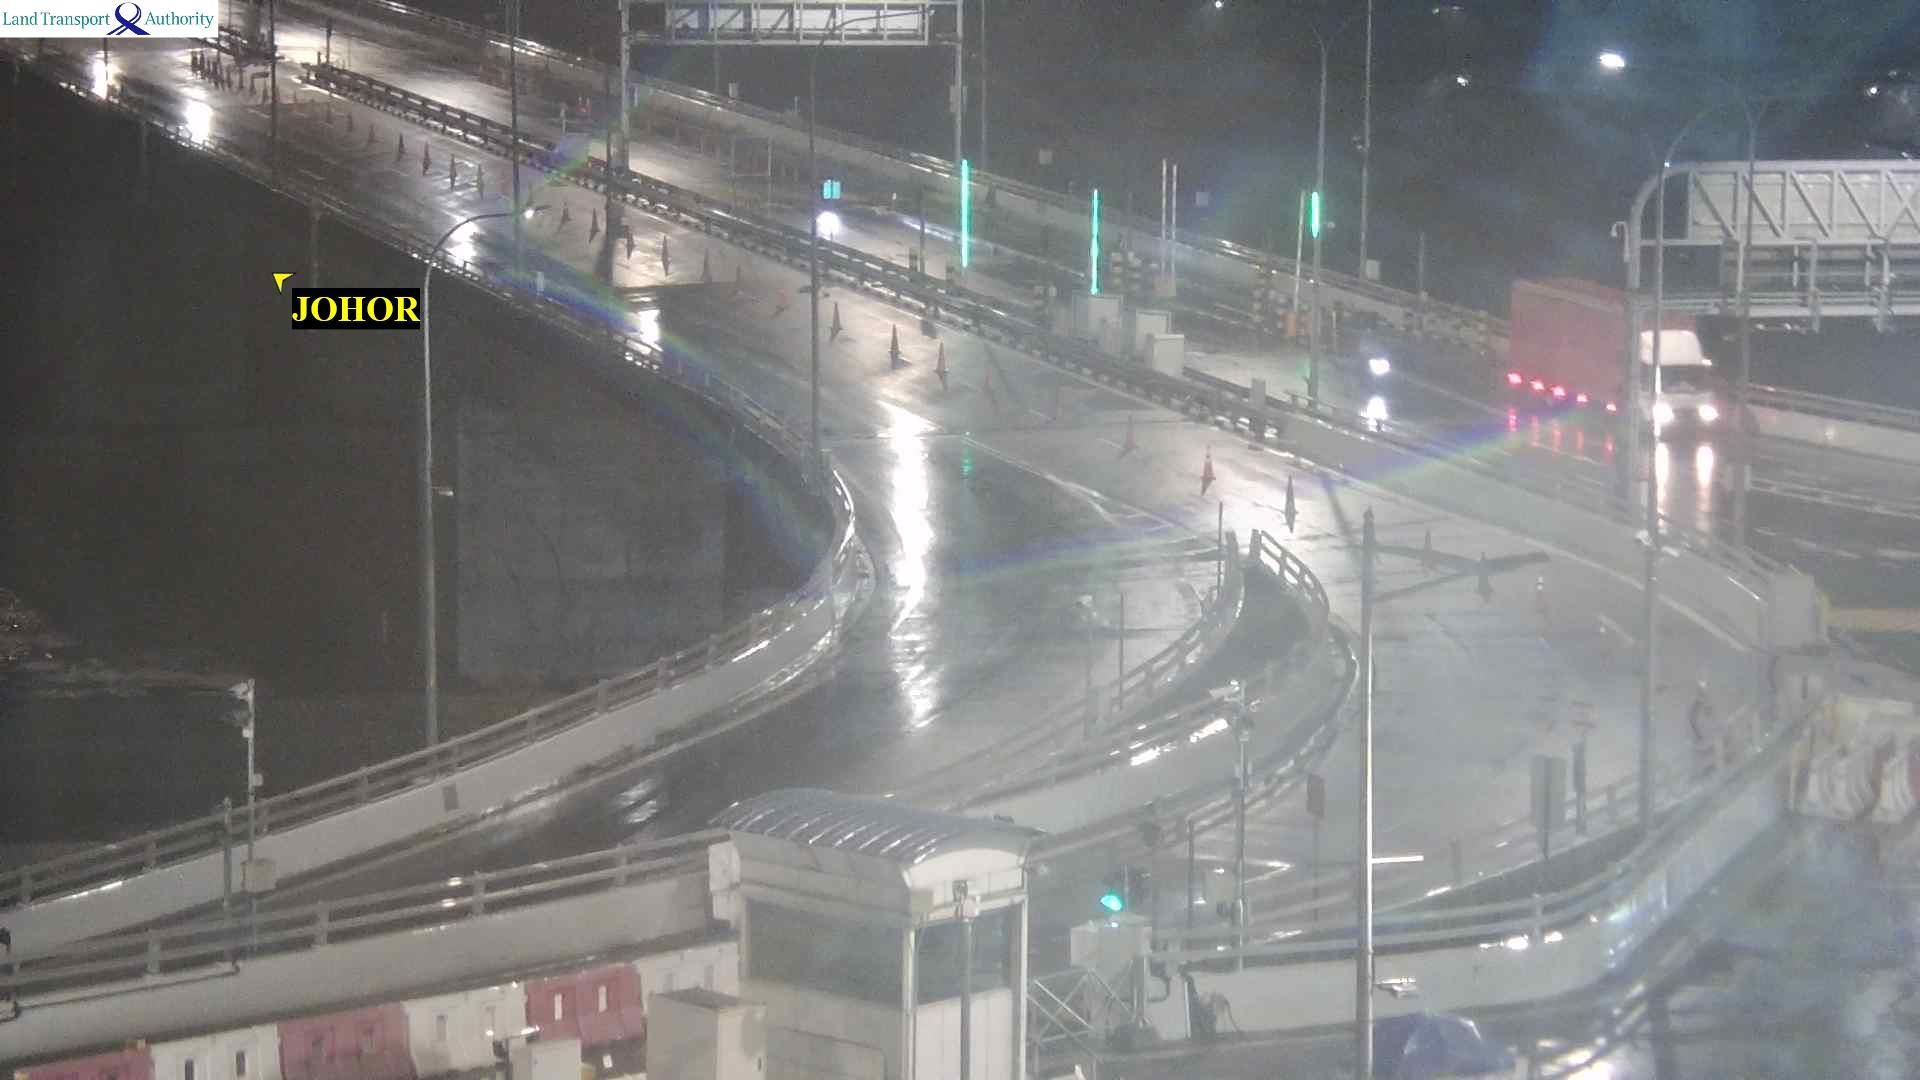vehicle-secondlink-singapore: (1515, 285, 1724, 437)
